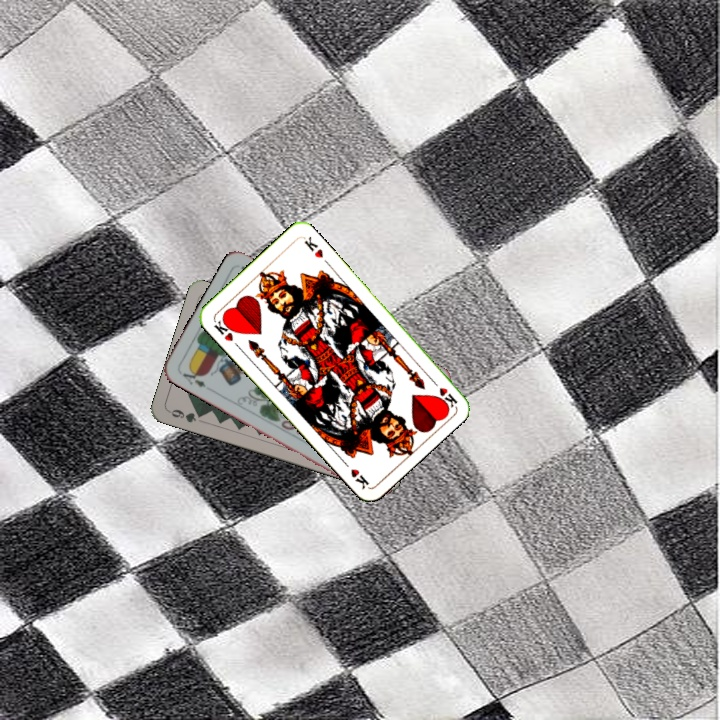EA: (179, 364, 208, 390)
G9: (165, 405, 206, 425)
HK: (426, 374, 460, 409), (210, 314, 238, 344)
